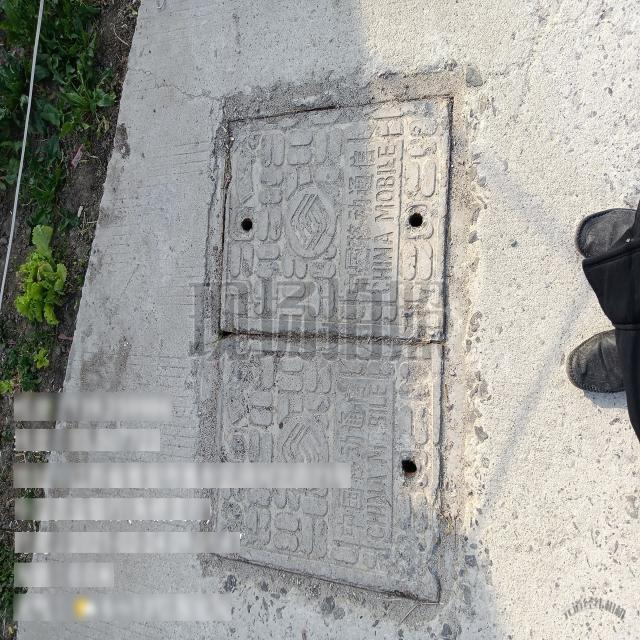Good: (207, 84, 461, 618)
